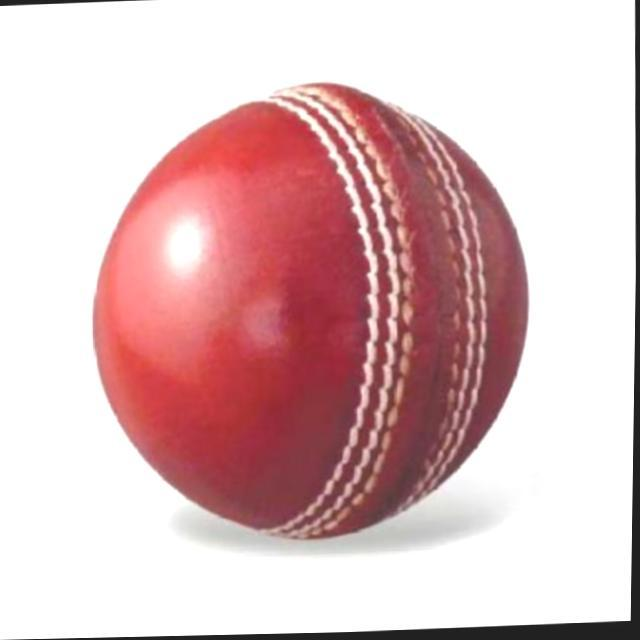-: (92, 76, 539, 554)
